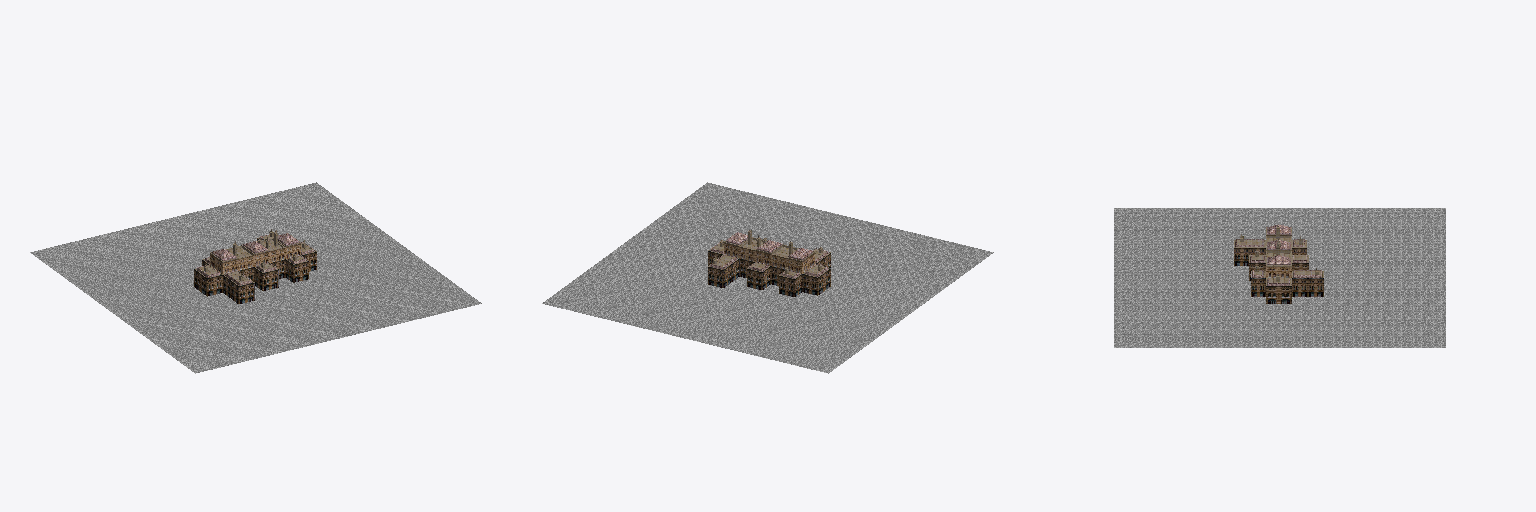
The picture shows the model from 3 angles: view 1: azimuth 30°, elevation 25°; view 2: azimuth 150°, elevation 25°; view 3: azimuth 270°, elevation 25°; orthographic projection.
Visible parts, largest first — view 1: Plane_Plane_Material.001_Plane_Plane_Material.001_Material.001_, bldg715_bldg715_15_-_Default2_bldg715_bldg715_15_-_Default2.000, bldg715_bldg715_20_-_Default_bldg715_bldg715_20_-_Default_2.000, bldg715_bldg715_11_-_Defaultds_bldg715_bldg715_11_-_Default.000, bldg715_bldg715_rooff22_bldg715_bldg715_rooff22_rooff22_bld.000; view 2: Plane_Plane_Material.001_Plane_Plane_Material.001_Material.001_, bldg715_bldg715_15_-_Default2_bldg715_bldg715_15_-_Default2.000, bldg715_bldg715_20_-_Default_bldg715_bldg715_20_-_Default_2.000, bldg715_bldg715_11_-_Defaultds_bldg715_bldg715_11_-_Default.000, bldg715_bldg715_rooff22_bldg715_bldg715_rooff22_rooff22_bld.000; view 3: Plane_Plane_Material.001_Plane_Plane_Material.001_Material.001_, bldg715_bldg715_15_-_Default2_bldg715_bldg715_15_-_Default2.000, bldg715_bldg715_11_-_Defaultds_bldg715_bldg715_11_-_Default.000, bldg715_bldg715_rooff22_bldg715_bldg715_rooff22_rooff22_bld.000.
Boxes of the visible parts, x1,y1,x2,y2 form: Plane_Plane_Material.001_Plane_Plane_Material.001_Material.001_: [30, 182, 481, 373]; bldg715_bldg715_15_-_Default2_bldg715_bldg715_15_-_Default2.000: [194, 239, 316, 303]; bldg715_bldg715_20_-_Default_bldg715_bldg715_20_-_Default_2.000: [210, 244, 300, 273]; bldg715_bldg715_11_-_Defaultds_bldg715_bldg715_11_-_Default.000: [195, 229, 316, 285]; bldg715_bldg715_rooff22_bldg715_bldg715_rooff22_rooff22_bld.000: [197, 233, 314, 285]; Plane_Plane_Material.001_Plane_Plane_Material.001_Material.001_: [542, 182, 993, 373]; bldg715_bldg715_15_-_Default2_bldg715_bldg715_15_-_Default2.000: [708, 251, 830, 296]; bldg715_bldg715_20_-_Default_bldg715_bldg715_20_-_Default_2.000: [724, 243, 814, 273]; bldg715_bldg715_11_-_Defaultds_bldg715_bldg715_11_-_Default.000: [708, 230, 830, 278]; bldg715_bldg715_rooff22_bldg715_bldg715_rooff22_rooff22_bld.000: [710, 232, 828, 278]; Plane_Plane_Material.001_Plane_Plane_Material.001_Material.001_: [1114, 208, 1445, 347]; bldg715_bldg715_15_-_Default2_bldg715_bldg715_15_-_Default2.000: [1234, 248, 1323, 303]; bldg715_bldg715_11_-_Defaultds_bldg715_bldg715_11_-_Default.000: [1234, 225, 1323, 285]; bldg715_bldg715_rooff22_bldg715_bldg715_rooff22_rooff22_bld.000: [1235, 224, 1321, 285].
Bounding box in the file's own units: 18 × 2.64 × 18.
6 materials, 5 textured.